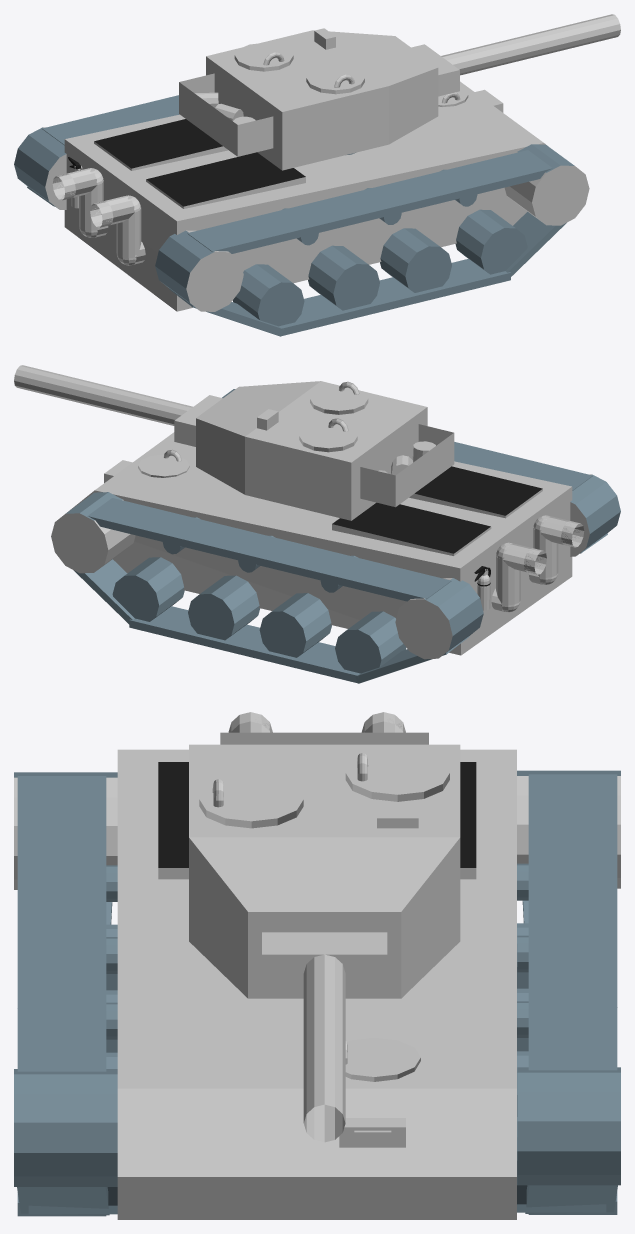
The picture shows the model from 3 angles, top to bottom: view 1: azimuth 30°, elevation 25°; view 2: azimuth 150°, elevation 25°; view 3: azimuth 270°, elevation 25°; orthographic projection. The views are drawn at different scales.
Size of the model in its own units: 1.5 by 0.5097 by 0.8206.
